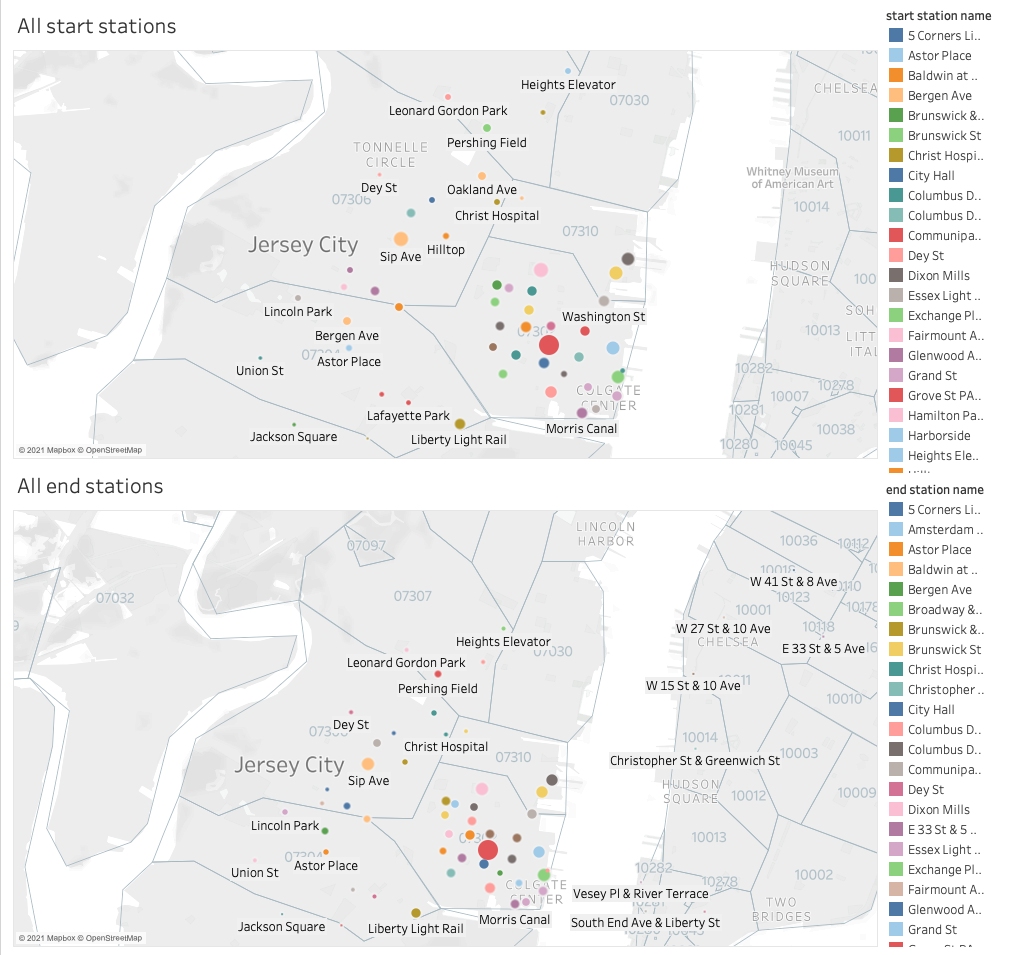

The dashboard page shown, as its layout file describes it:
{"tool":"tableau","page":{"name":"Map all","canvas":[1016,964],"ordinal":0},"visuals":[{"type":"worksheet","box":[0,0,1016,964]},{"type":"worksheet","param":"horz","box":[8,8,1000,948]},{"type":"worksheet","box":[8,8,873,948]},{"type":"worksheet","title":"all start stations","mark":"Automatic","rows":["start station latitude"],"cols":["start station longitude"],"box":[8,8,873,460]},{"type":"worksheet","param":"vert","box":[881,8,127,948]},{"type":"worksheet","title":"all start stations","mark":"Automatic","rows":["start station latitude"],"cols":["start station longitude"],"param":"[federated.1u2xchn0cxnp1e1ckx9i2159srjd].[none:start station name:nk]","box":[881,8,127,474]},{"type":"worksheet","param":"vert","box":[8,468,873,488]},{"type":"worksheet","title":"all end stations","mark":"Automatic","rows":["end station latitude"],"cols":["end station longitude"],"box":[8,468,873,488]},{"type":"worksheet","title":"all end stations","mark":"Automatic","rows":["end station latitude"],"cols":["end station longitude"],"param":"[federated.1u2xchn0cxnp1e1ckx9i2159srjd].[none:end station name:nk]","box":[881,482,127,474]}]}

Visuals, with their boxes in screenshot pixels (x1, y1, x2, y2), scaled from the page's 1016x964 canvas onto the 1010x955 screenshot:
worksheet: <box>0,0,1009,954</box>
worksheet: <box>8,8,1002,947</box>
worksheet: <box>8,8,876,947</box>
"all start stations" worksheet: <box>8,8,876,464</box>
worksheet: <box>876,8,1002,947</box>
"all start stations" worksheet: <box>876,8,1002,478</box>
worksheet: <box>8,464,876,947</box>
"all end stations" worksheet: <box>8,464,876,947</box>
"all end stations" worksheet: <box>876,478,1002,947</box>
